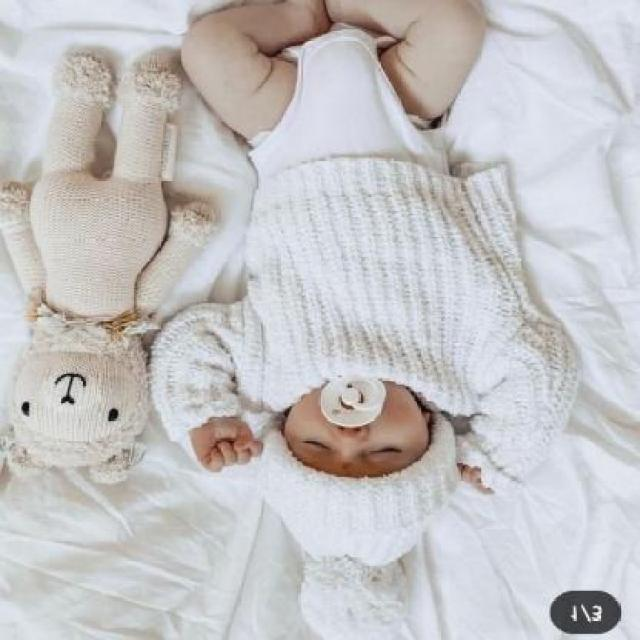baby: (147, 3, 576, 565)
